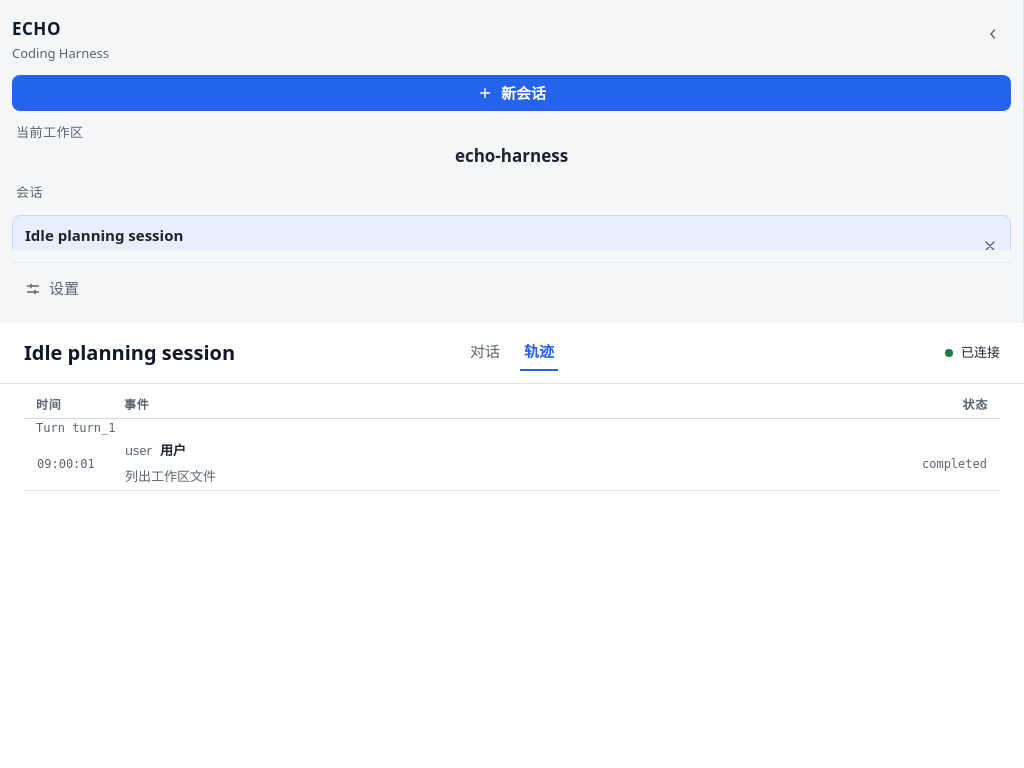
Console state projection › opens Inspector from a Trace record and closes it with Escape
The image size is (1024, 768).
Step 1. Click the button with aria-label "用户 user" → [66, 464], box [24,438,1000,490]
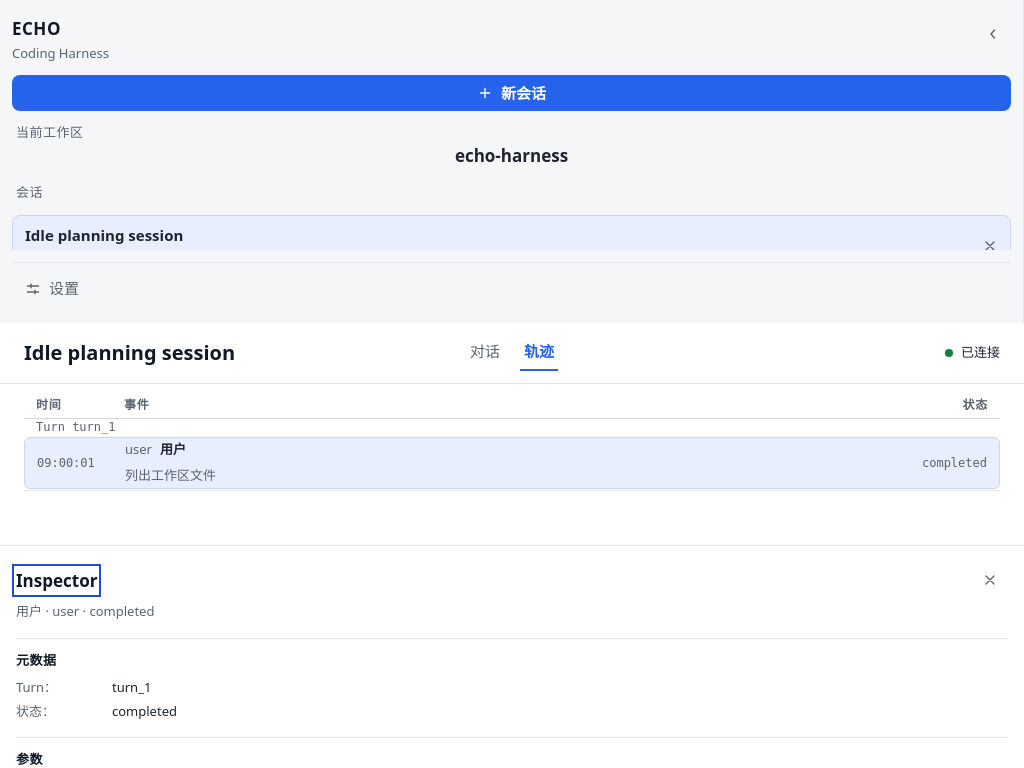
Expected: the element "Inspector" is shown, [0,545,1023,767]
Expected: the heading "元数据" is shown, [16,651,57,669]
Step 2. Press Escape
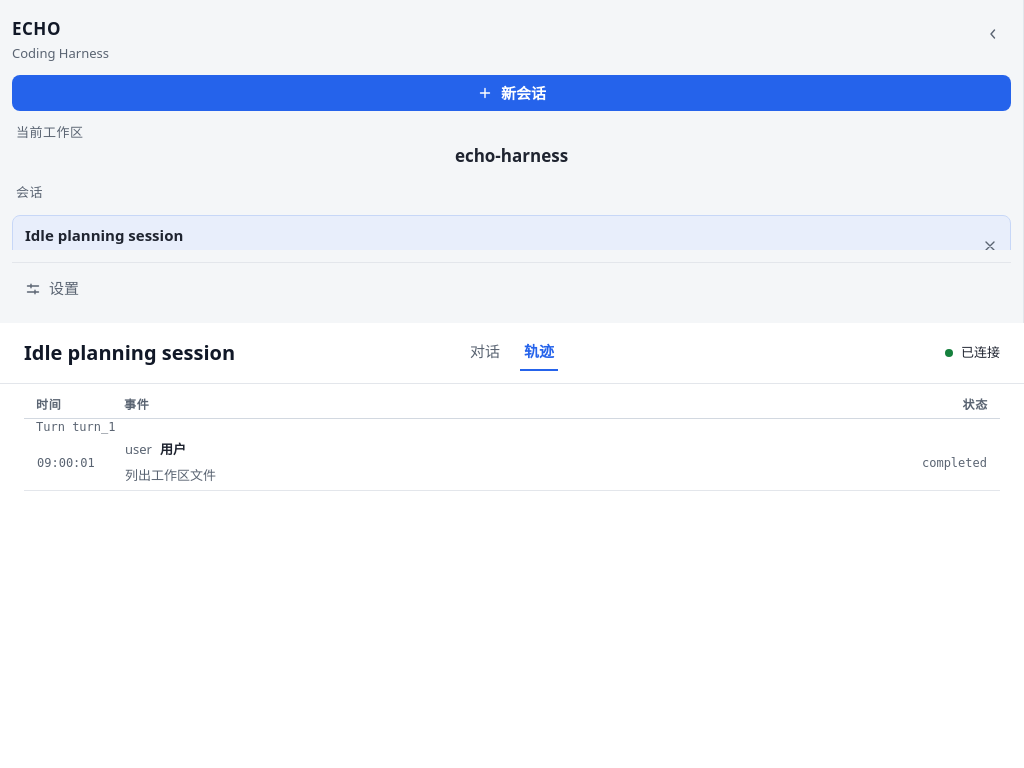
Expected: the heading "Inspector" is gone
